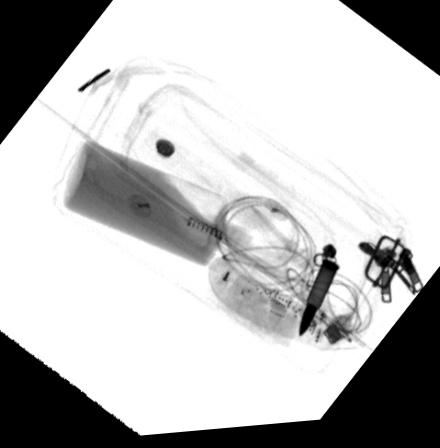Bullet: (298, 263, 340, 345)
